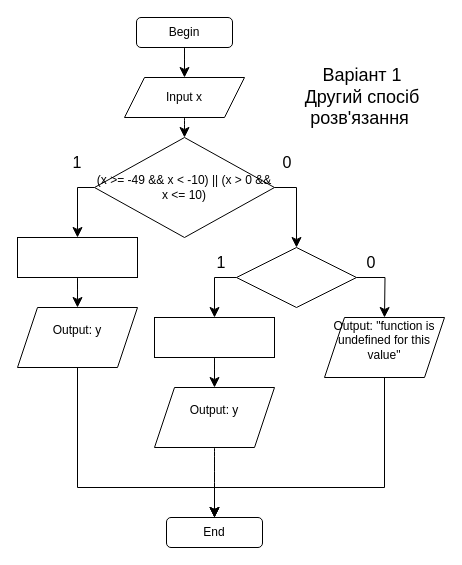
Image size: 462x565. Some labels were removed from this diagram. The shapes that lost their labels are listed below. From the top down, each one's box as (x1, y1, x2, y2) in pixels, then its label:
(16, 236, 138, 278): y = 10x 3 + 7x/5 + 2
(236, 246, 356, 308): x > 20
(154, 316, 274, 358): y = -x + 9
